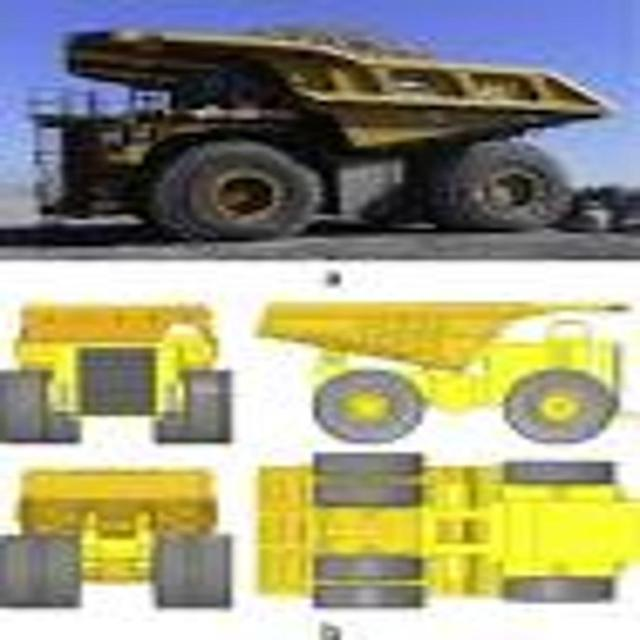dump_truck: (30, 23, 620, 236)
